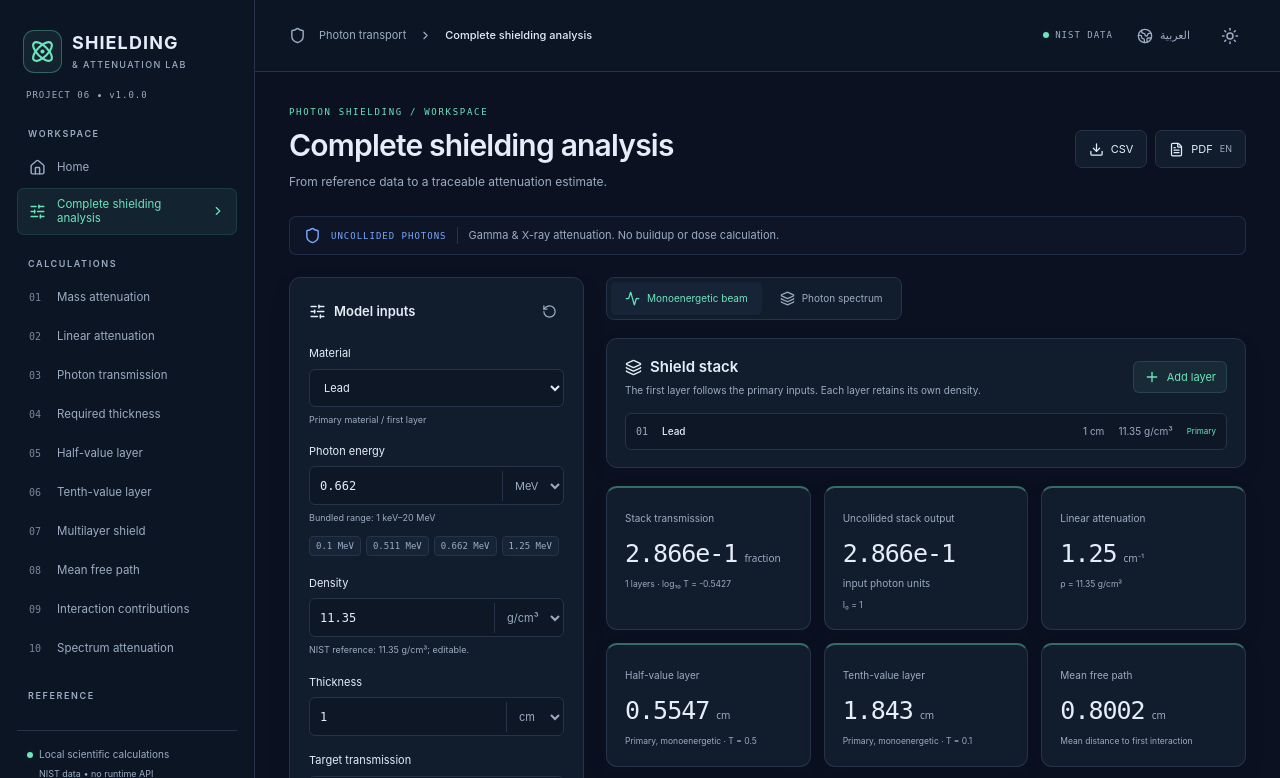
Test: DOM integration (jsdom; not browser-engine tests) › a mass lookup is not blocked by an irrelevant hidden thickness error
Replace the text in the number field labelled "Thickness" with "-1". click: coordinates (408, 717)
box: x1=310 y1=699 x2=506 y2=735
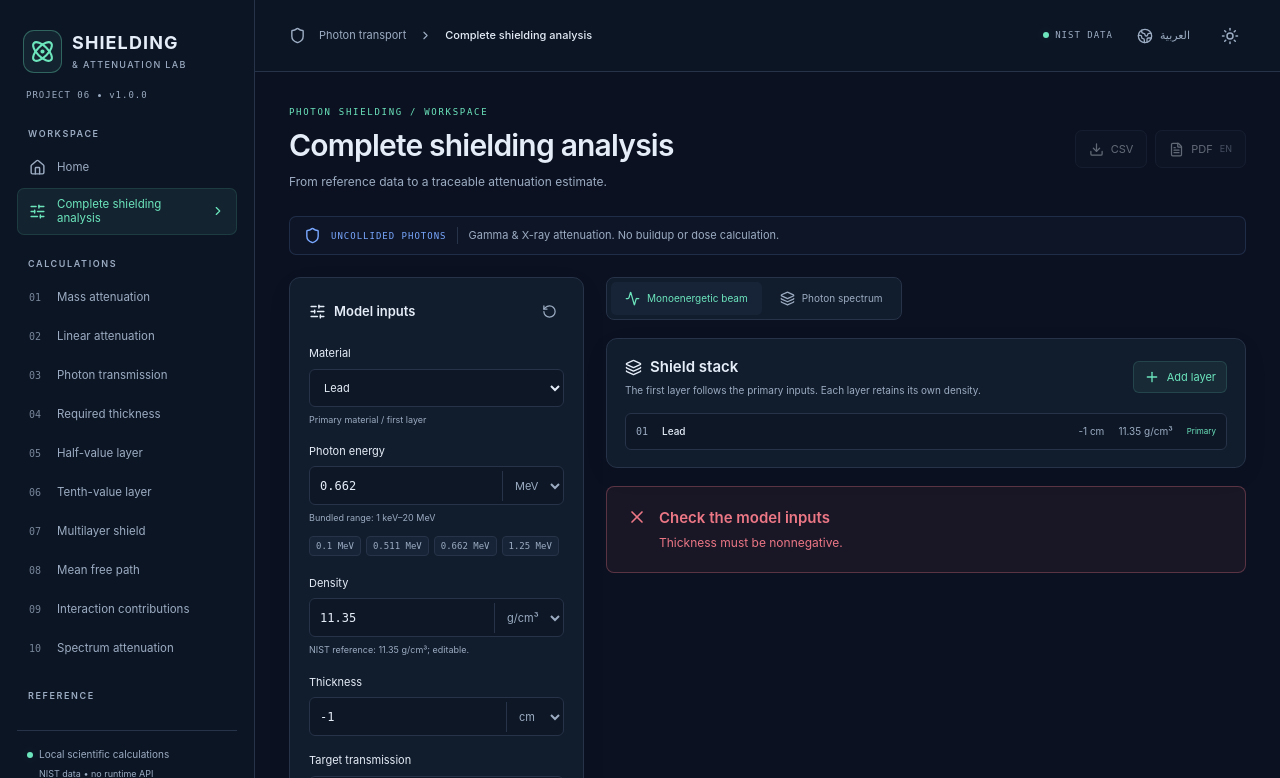
Expected: the message "Check the model inputs Thickness must be nonnegative." is shown, x1=606 y1=486 x2=1246 y2=573
Click the button "01 Mass attenuation". click: coordinates (127, 297)
box: x1=17 y1=279 x2=237 y2=316
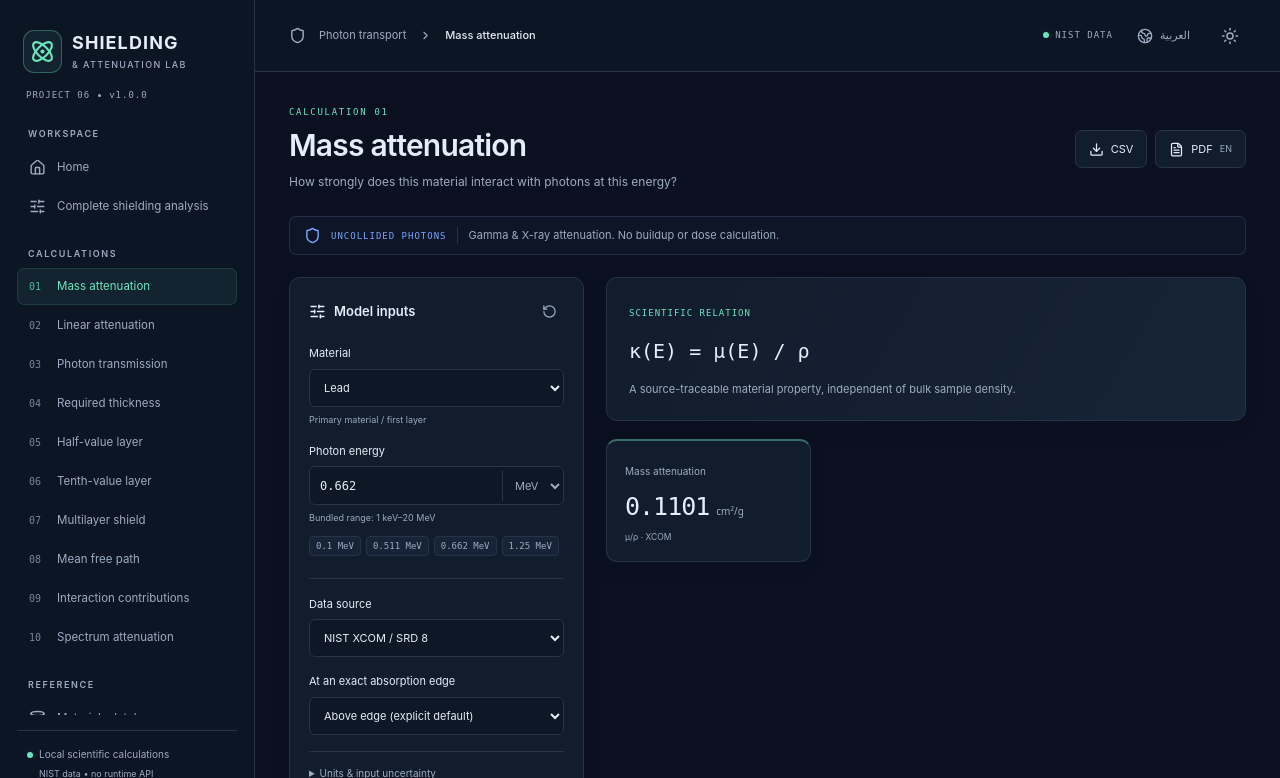
Expected: the message "Check the model inputs Thickness must be nonnegative." is gone
Expected: the heading "Mass attenuation" is shown, x1=289 y1=127 x2=526 y2=163
